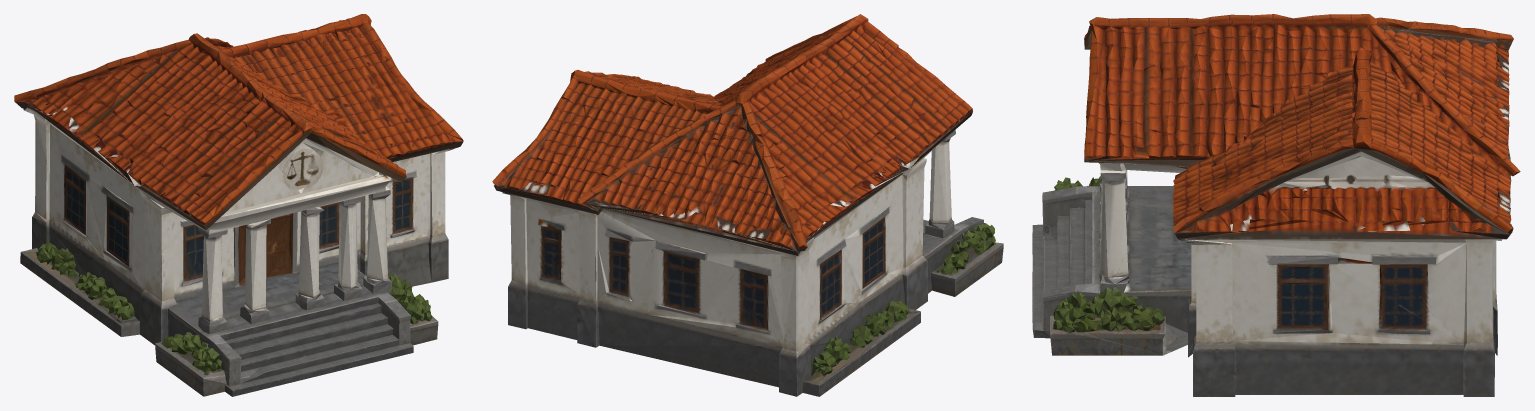
The model's file is pengadilan.glb.
3 views of the same model, side by side, from view 1: azimuth 30°, elevation 25°; view 2: azimuth 150°, elevation 25°; view 3: azimuth 270°, elevation 25° (orthographic). The views are drawn at different scales.
Parts seen in each view (by area): view 1: output_unwrapped; view 2: output_unwrapped; view 3: output_unwrapped.
Boxes of the visible parts, x1,y1,x2,y2 form: output_unwrapped: [14, 14, 463, 396]; output_unwrapped: [492, 14, 1003, 396]; output_unwrapped: [1032, 14, 1520, 396].
Bounding box in the file's own units: 1.68 × 1.2 × 1.9.
1 material, 1 textured.
